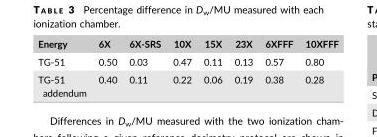table: (37, 37, 337, 97)
table column: (37, 37, 91, 97), (122, 37, 166, 97), (258, 37, 298, 97), (298, 37, 337, 97), (91, 37, 122, 97), (196, 37, 227, 97), (227, 37, 258, 97), (166, 37, 196, 97)
table column header: (37, 37, 337, 52)
table row: (37, 70, 337, 97), (37, 52, 337, 70), (37, 37, 337, 52)
